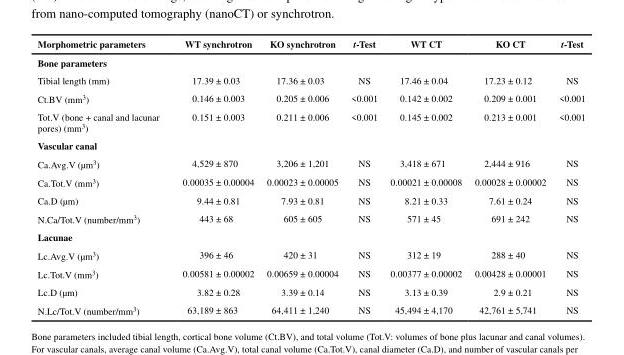table: (36, 36, 584, 316)
table column: (36, 36, 170, 316), (170, 36, 259, 316), (259, 36, 344, 316), (383, 36, 467, 316), (467, 36, 551, 316), (344, 36, 383, 316), (551, 36, 584, 316)
table column header: (36, 36, 584, 52)
table projected row header: (36, 52, 584, 71), (36, 227, 584, 245), (36, 136, 584, 153)
table row: (36, 107, 584, 136), (36, 52, 584, 71), (36, 88, 584, 107), (36, 153, 584, 172), (36, 172, 584, 191), (36, 208, 584, 227), (36, 263, 584, 282), (36, 227, 584, 245), (36, 245, 584, 263), (36, 282, 584, 300), (36, 71, 584, 88), (36, 136, 584, 153), (36, 191, 584, 208), (36, 36, 584, 52), (36, 300, 584, 316)
